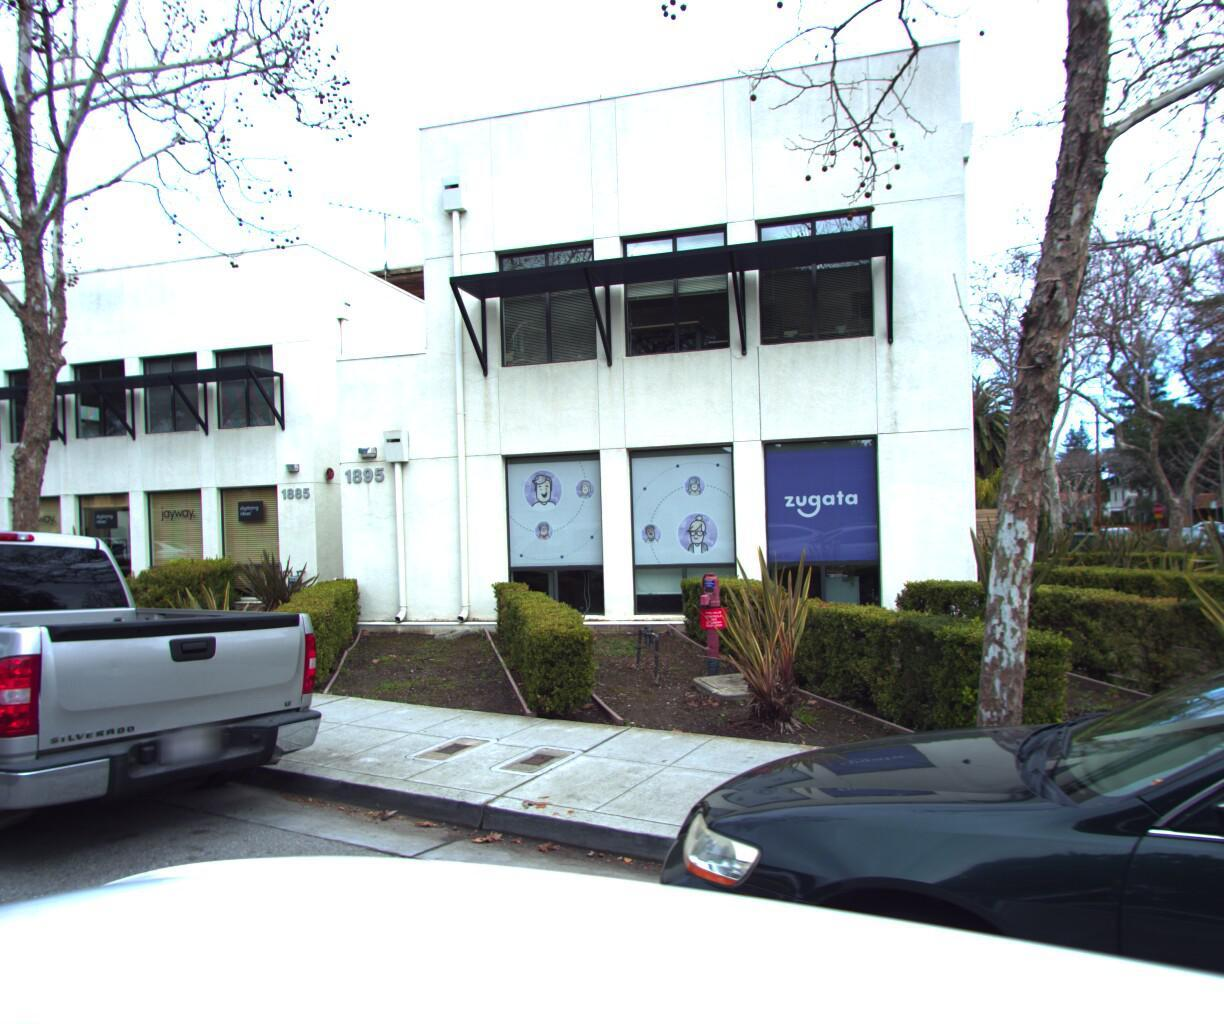car: (0, 492, 378, 941)
